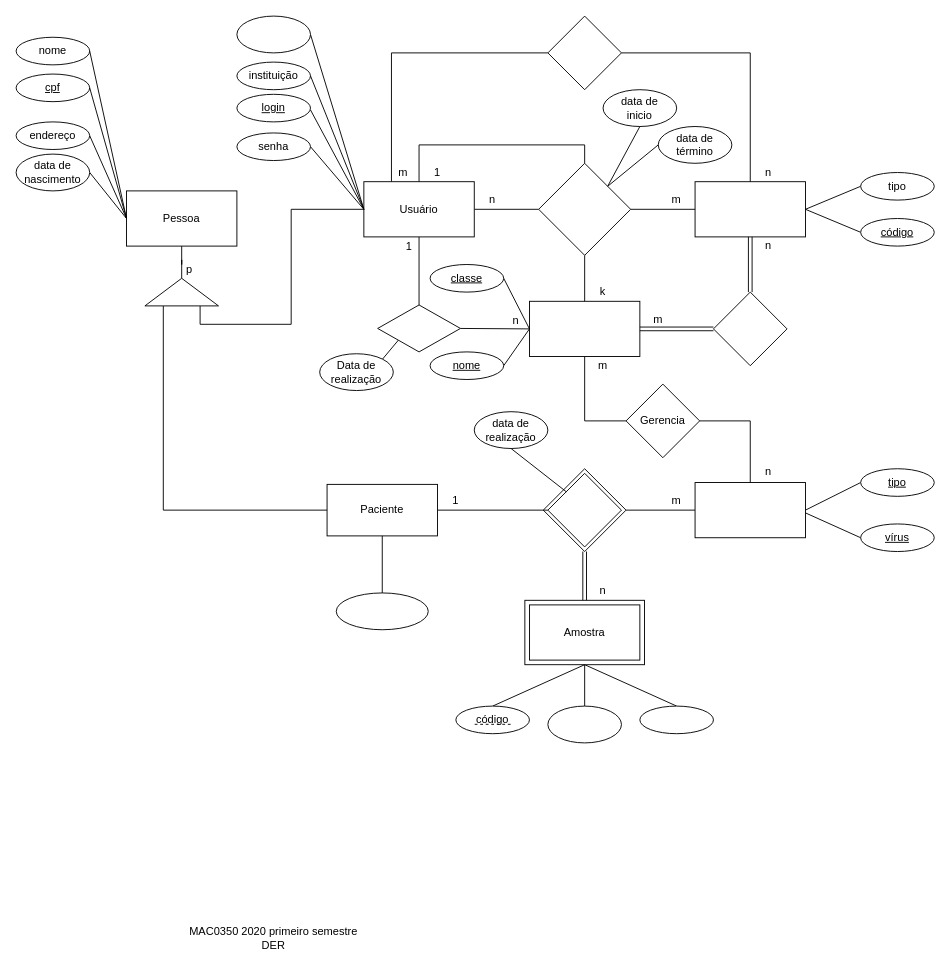
Image size: 950x976. Some labels were removed from this diagram. Each missing label, with the centre of its shape:
area de persquisa: (x=273, y=34)
Exame: (x=749, y=510)
id: (x=381, y=611)
material: (x=676, y=719)
método de coleta: (x=584, y=724)
Perfil: (x=749, y=209)
Pertence: (x=750, y=328)
Possui: (x=584, y=52)
Realiza: (x=584, y=509)
Requisita: (x=418, y=328)
Serviço: (x=584, y=328)
Tutelamento: (x=584, y=208)
